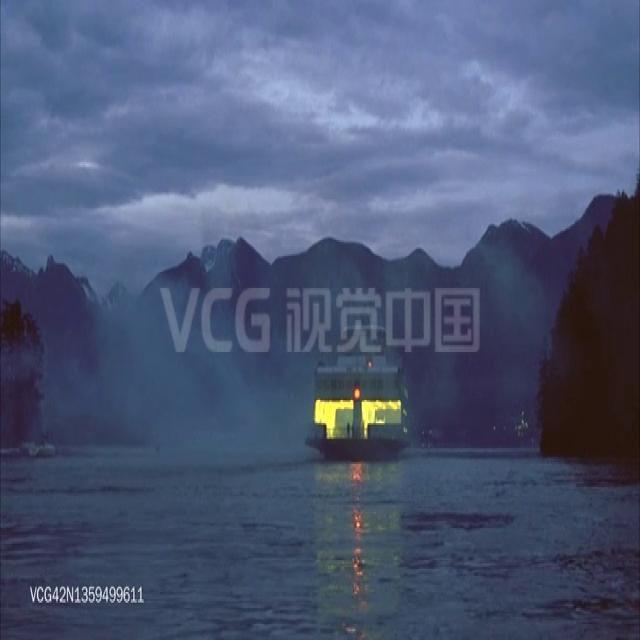passenger ship: (307, 310, 412, 453)
